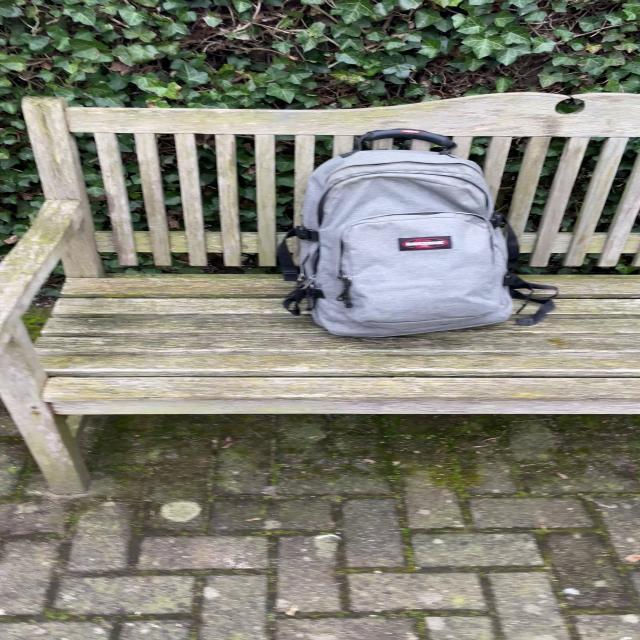backpack: (275, 123, 527, 344)
